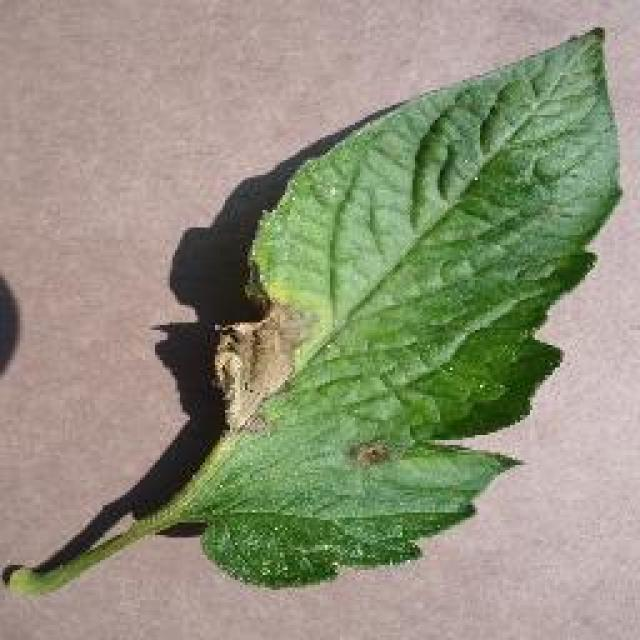Tomato___Late_blight: (10, 25, 626, 601)
